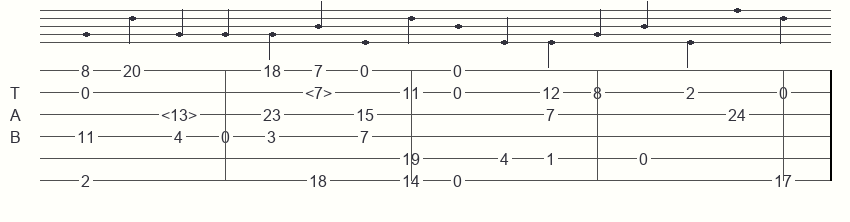0: (81, 84, 94, 100), (221, 128, 234, 144), (360, 62, 373, 78), (453, 62, 466, 78), (453, 84, 466, 100), (453, 172, 466, 188), (639, 150, 652, 166), (779, 84, 792, 100)
1: (546, 150, 559, 166)
11: (77, 128, 99, 144), (402, 84, 424, 100)
12: (542, 84, 564, 100)
14: (402, 172, 424, 188)
15: (356, 106, 378, 122)
17: (774, 172, 796, 188)
18: (263, 62, 285, 78), (309, 172, 331, 188)
19: (402, 150, 424, 166)
2: (81, 172, 94, 188), (686, 84, 699, 100)
20: (123, 62, 145, 78)
23: (263, 106, 285, 122)
24: (728, 106, 750, 122)
3: (267, 128, 280, 144)
4: (174, 128, 187, 144), (500, 150, 513, 166)
7: (314, 62, 327, 78), (360, 128, 373, 144), (546, 106, 559, 122)
8: (81, 62, 94, 78), (593, 84, 606, 100)
harmonic: (161, 106, 201, 122), (305, 84, 336, 100)
